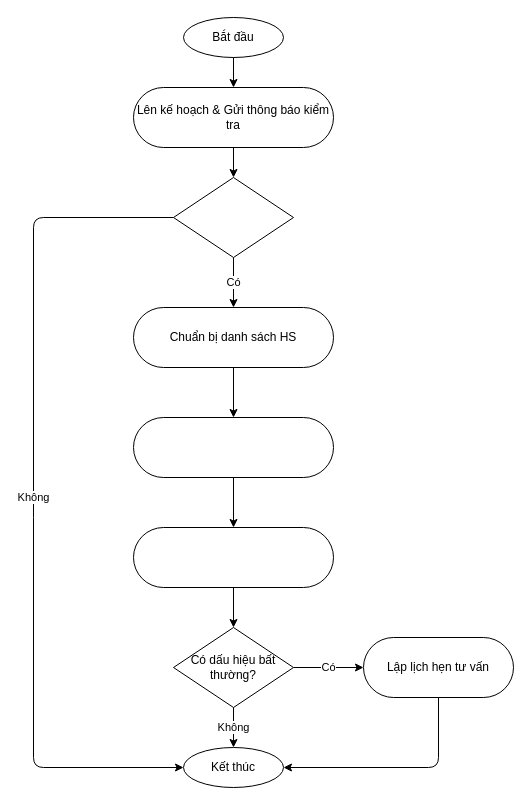
This 531x805 diagram has some shape labels left out. The centre of each missing label's shape, as x and y in pixels:
"Gửi kết quả cho phụ huynh" belongs at point 233,557.
"Phụ huynh xác nhận?" belongs at point 233,217.
"Thực hiện & Ghi nhận kết quả" belongs at point 233,447.
